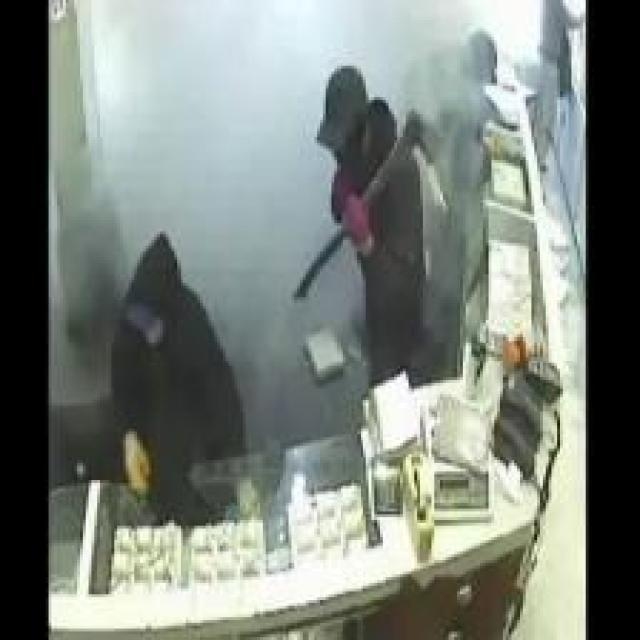fire: (50, 0, 322, 243), (394, 0, 494, 337)
